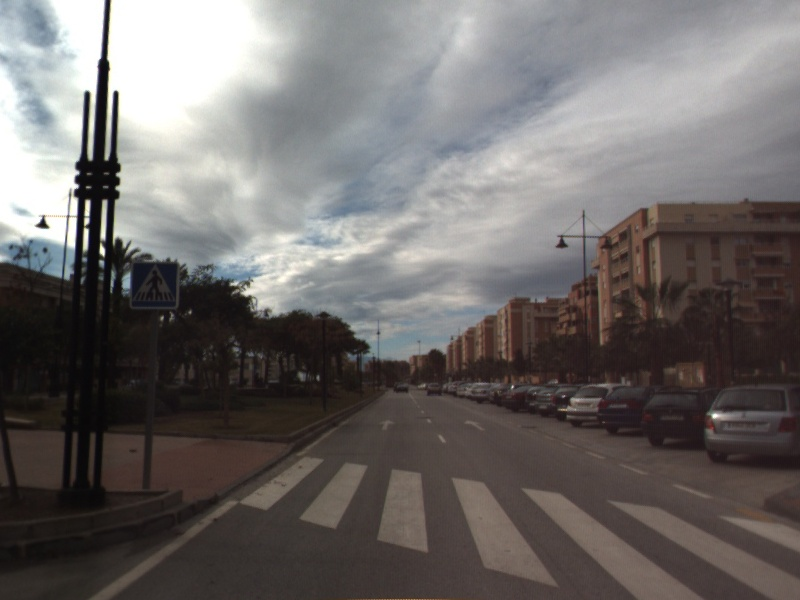STRAIGHT: (462, 418, 487, 432), (376, 417, 397, 432)
